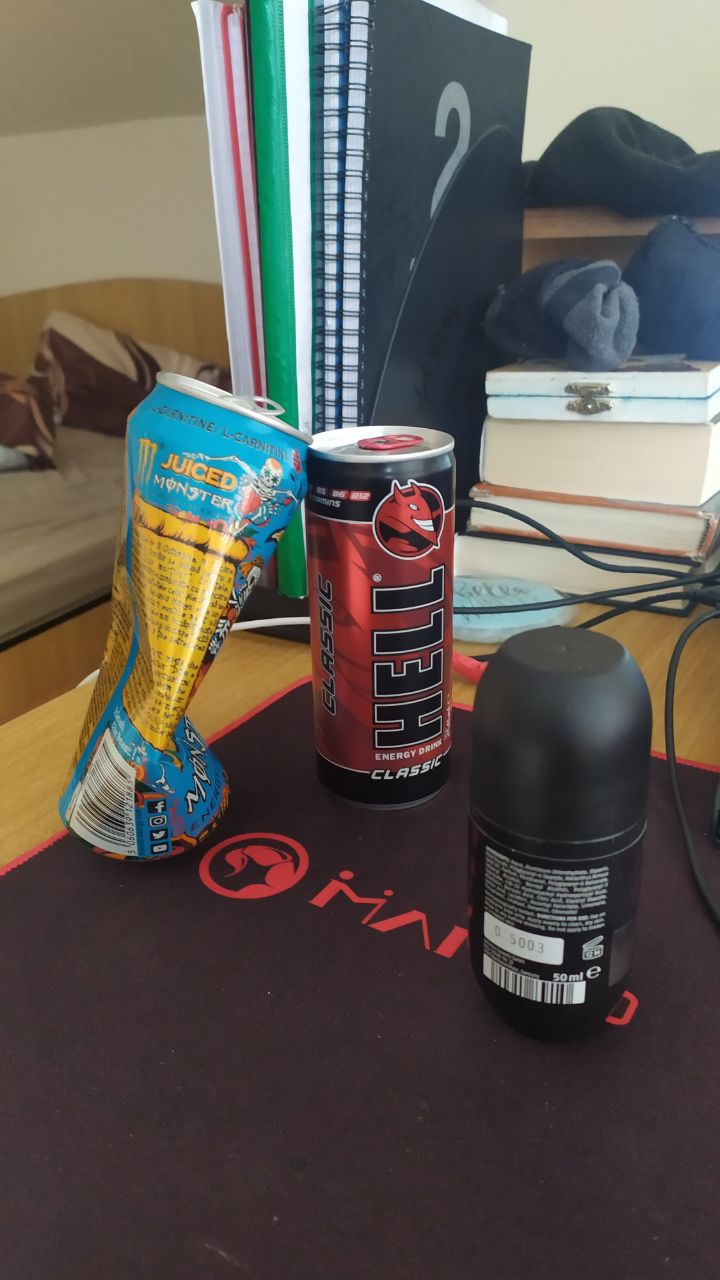Can: (61, 372, 305, 861), (308, 421, 460, 817)
